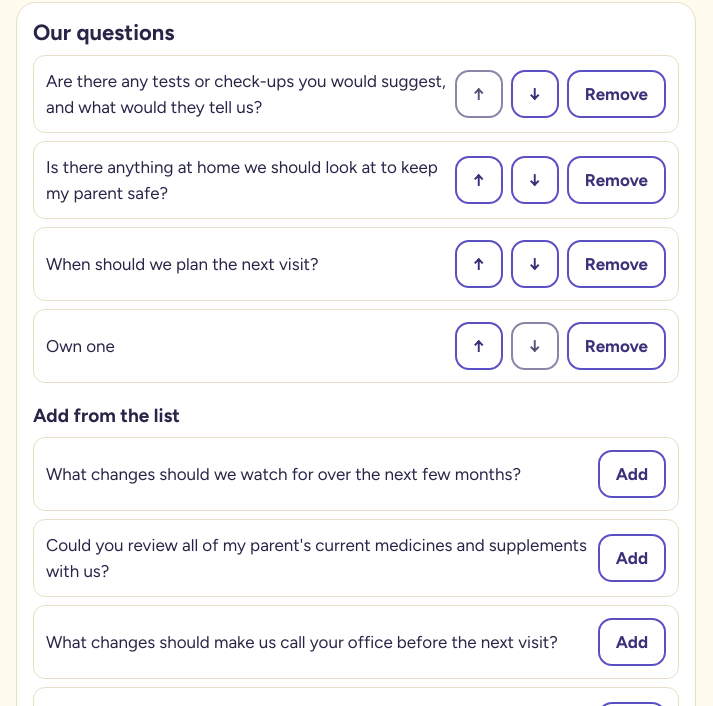
it: visit sheet page › reorder and remove produce the right questions array
Earlier steps of the test are not shown.
(page scrolled)
Click the button named "Move up: Own one". click: x=479, y=346
box: [455,322,503,370]
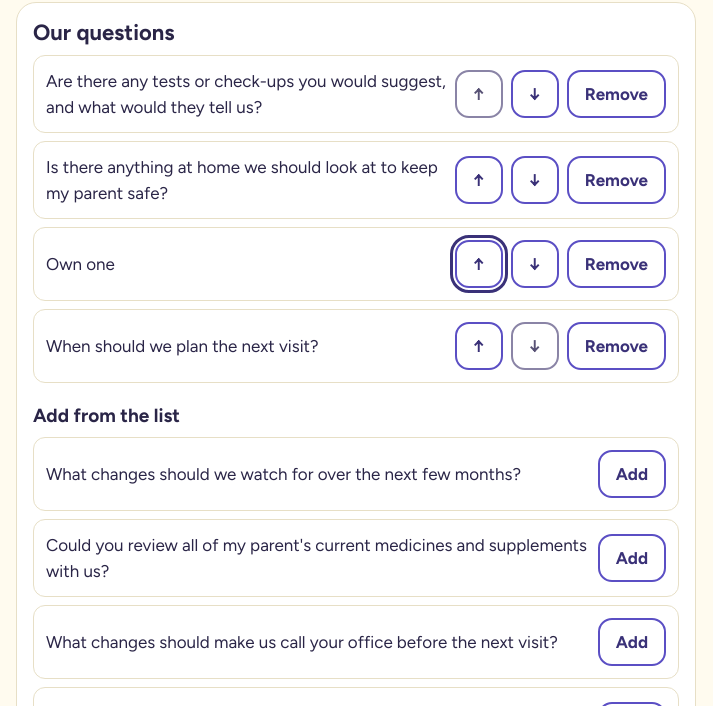
Click the button named "Move up: Own one". click: x=479, y=264
box: [455,240,503,288]
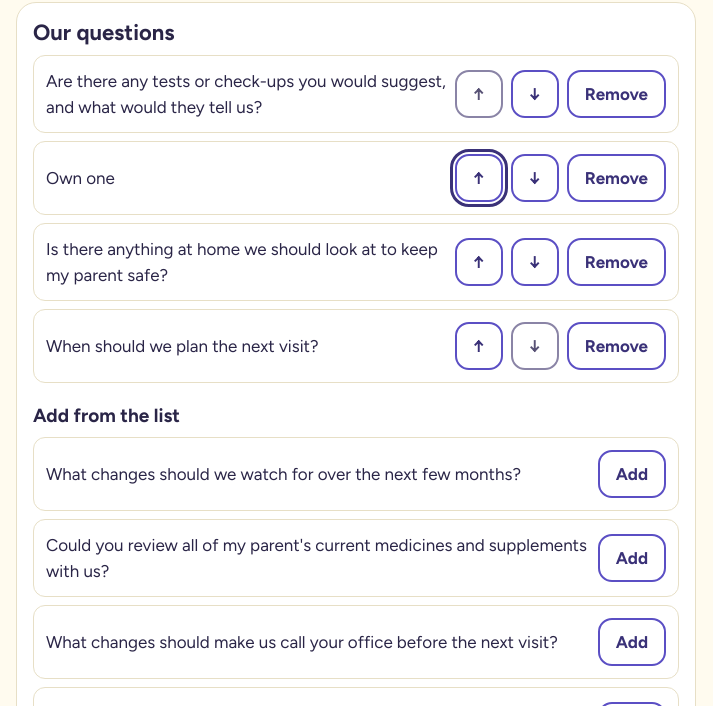
Click the button named "Move up: Own one". click: x=479, y=178
box: [455,154,503,202]
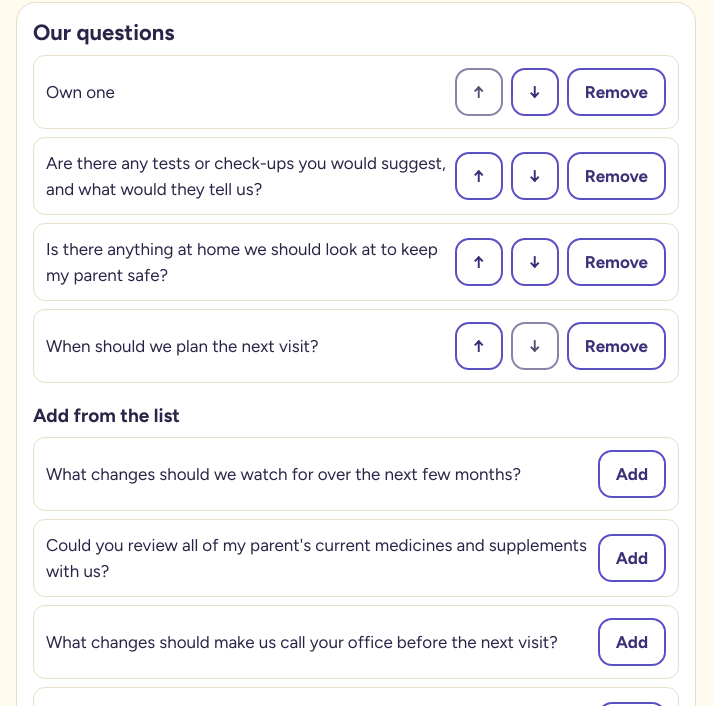
Click the button named "Move down: Are there any tests". click: x=535, y=176
box: [511,152,559,200]
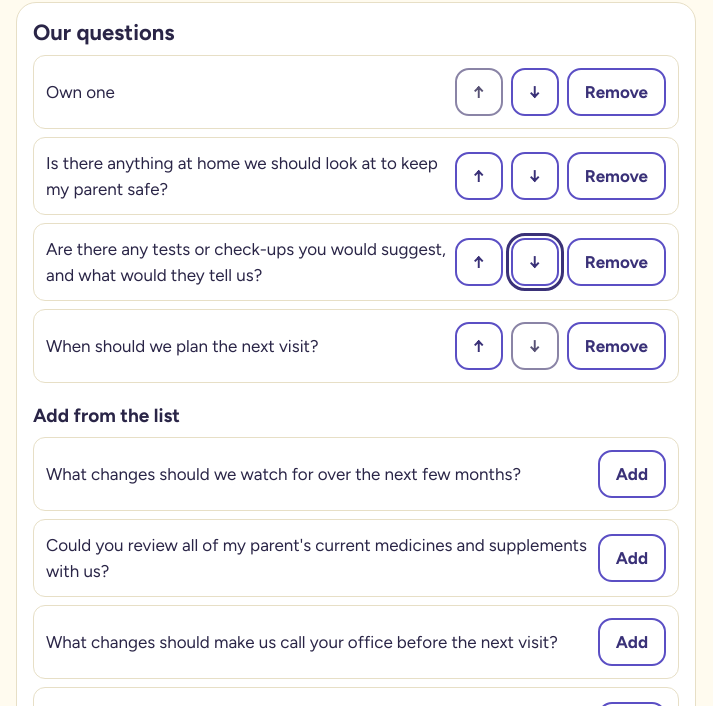
Click the button with aria-label "Remove: Is there anything at home". click: x=616, y=176
box: [567,152,666,200]
(page scrolled)
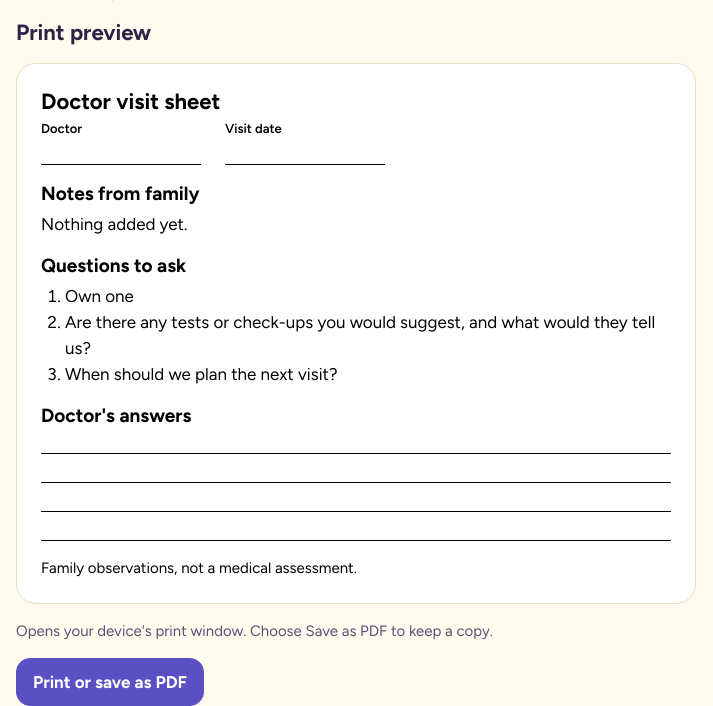
Click the button "Print or save as PDF". click: x=110, y=682
box: [16,658,204,705]
(page scrolled)
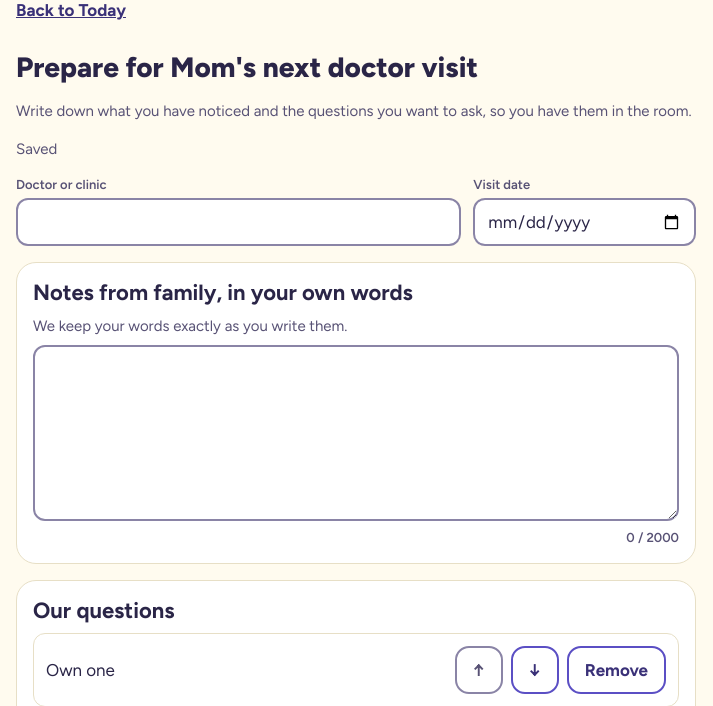
Result: the text "Saved" is shown at [16,140,57,158]
